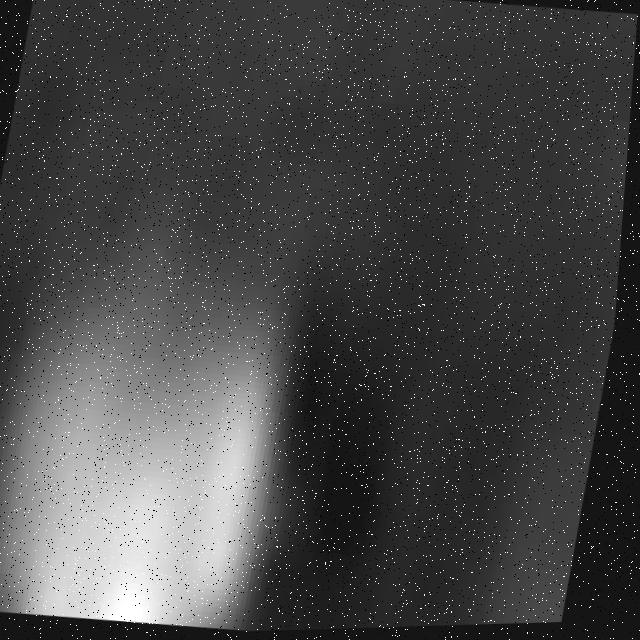person: (1, 224, 339, 640)
